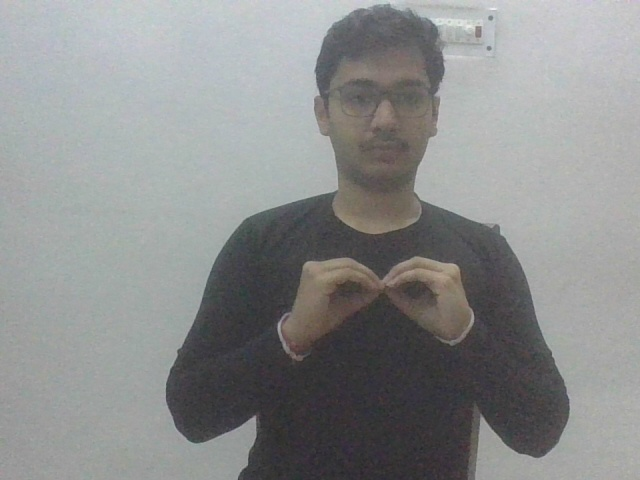B: (281, 253, 474, 345)
